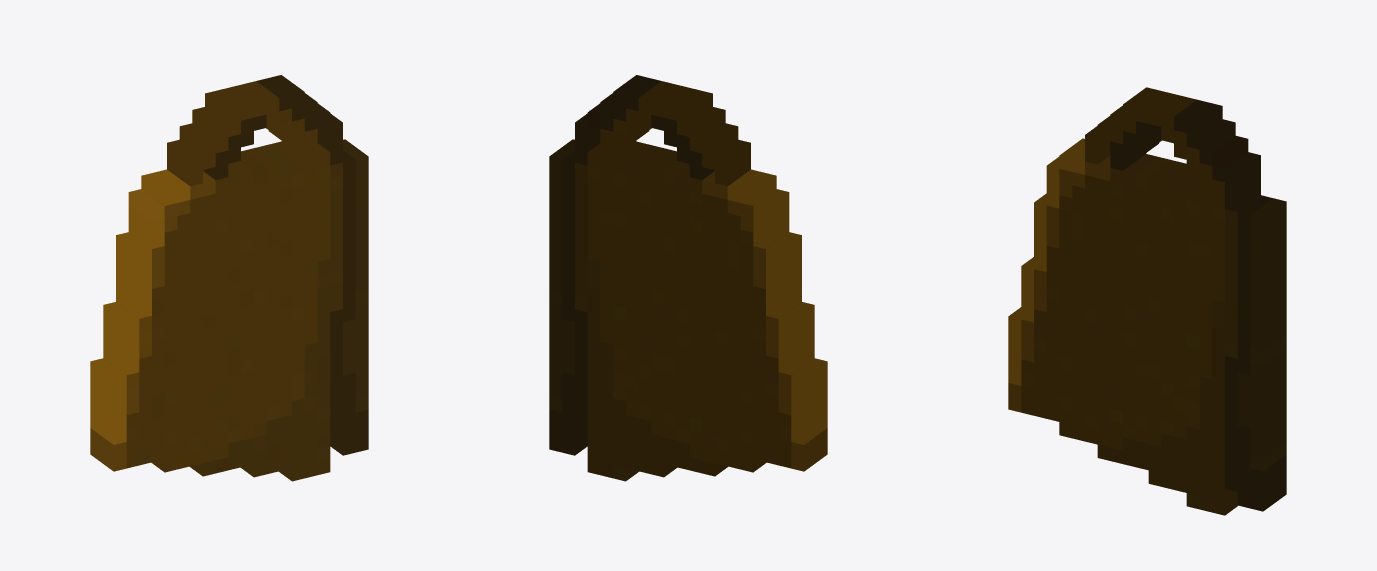
Rendered from paper_bag_new.glb.
3 renders of one model, left to right at view 1: azimuth 30°, elevation 25°; view 2: azimuth 150°, elevation 25°; view 3: azimuth 330°, elevation 25°, orthographic.
Parts seen in each view (by area): view 1: paperBag; view 2: paperBag; view 3: paperBag.
Part boxes in pixels (x1,y1,x2,y2): paperBag: (90, 75, 368, 481); paperBag: (549, 75, 827, 481); paperBag: (1008, 87, 1286, 515).
Size of the model in its own units: 1 by 1 by 0.099.
Materials: 1 (1 with a texture image).
